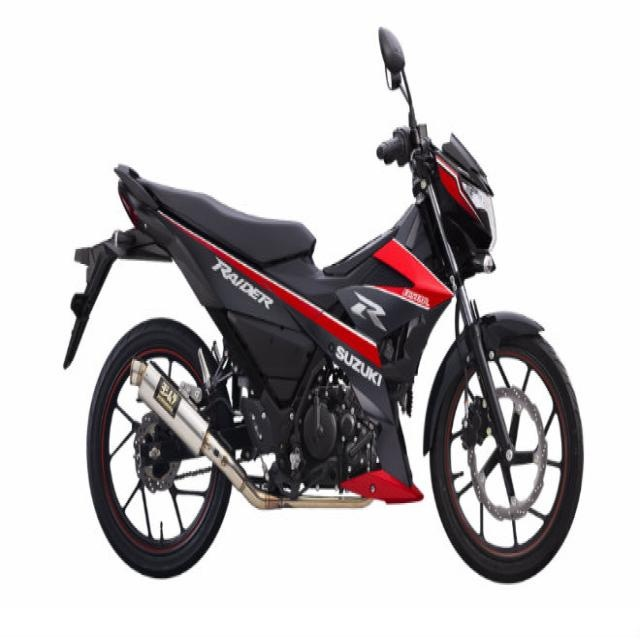Motorcycle: (61, 23, 588, 585)
